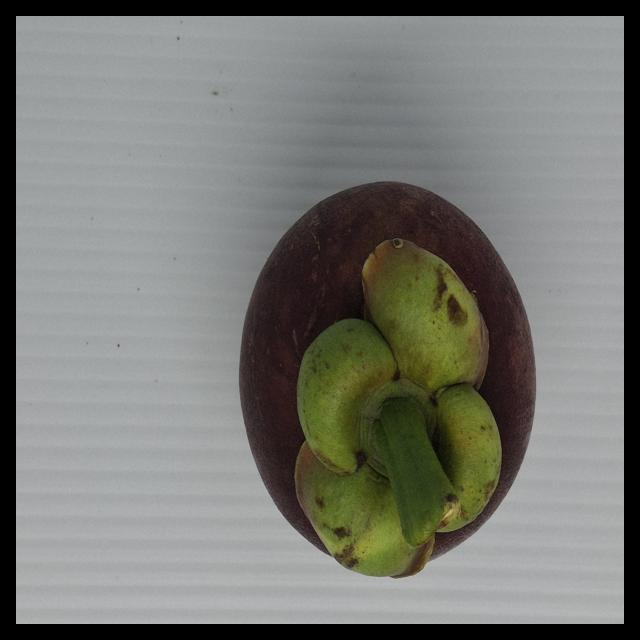mangosteen: (183, 116, 569, 624)
